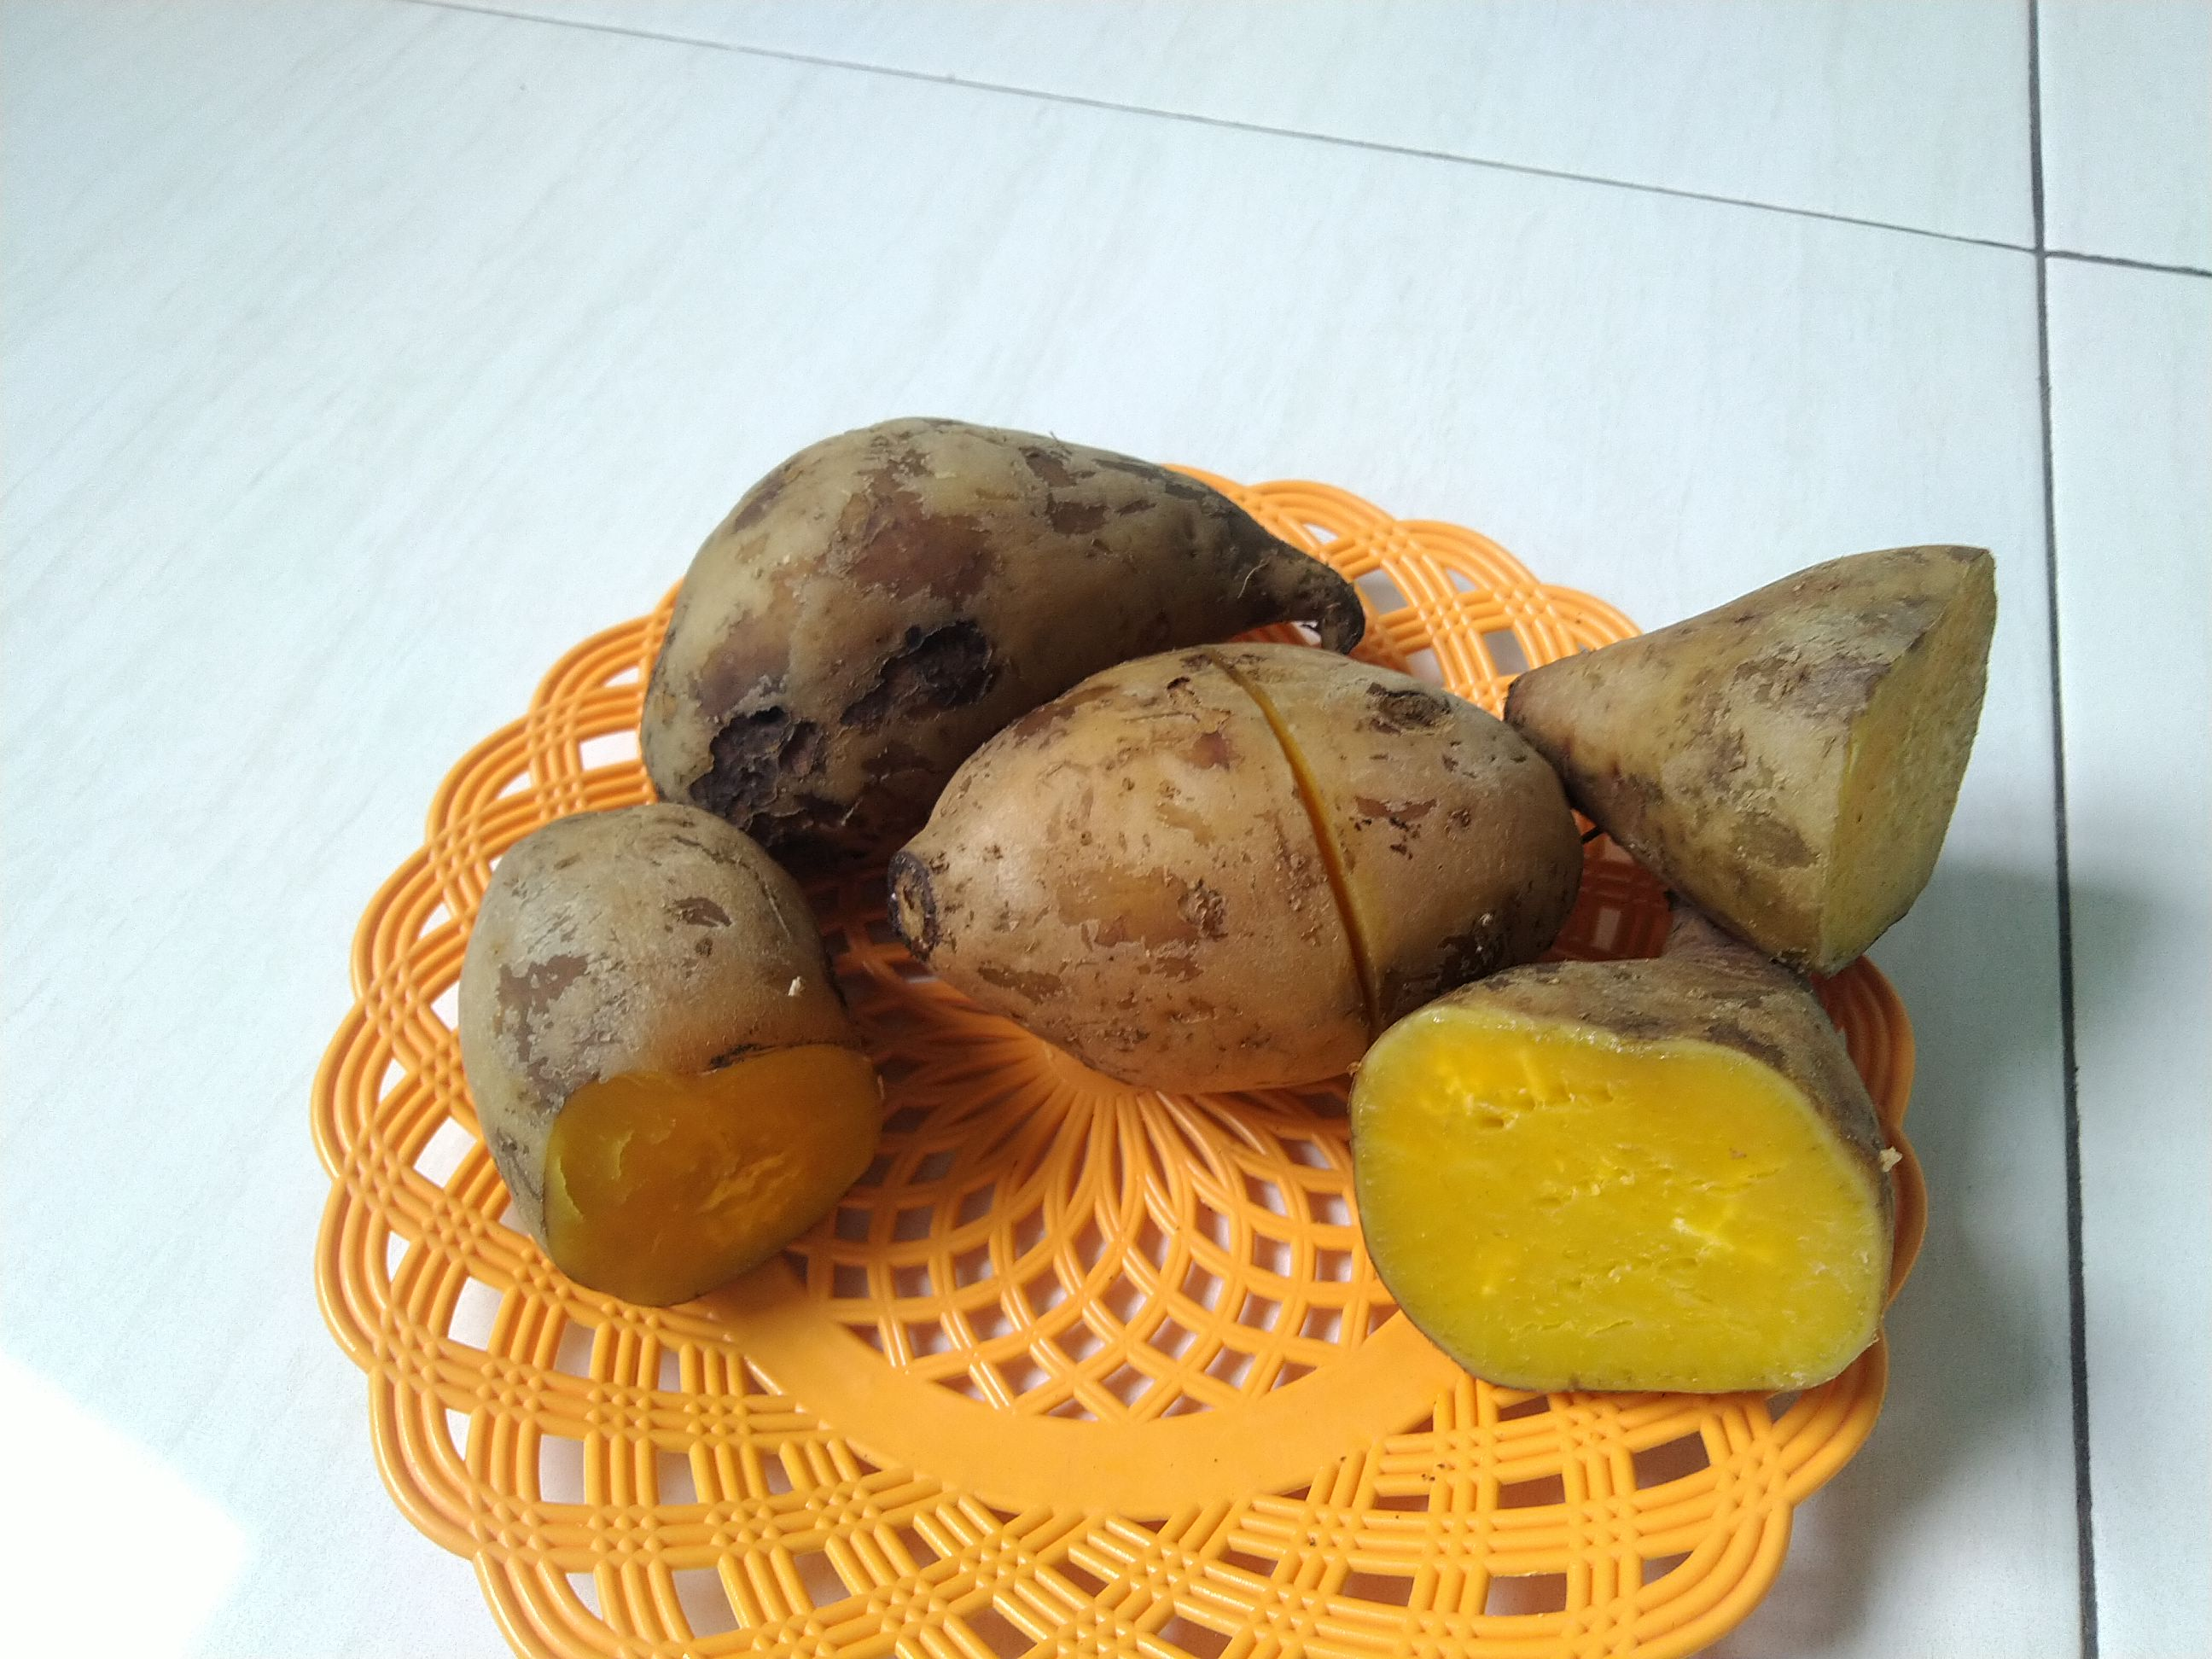ubi kuning: (885, 626, 1609, 1107), (643, 390, 1369, 852), (1353, 939, 1925, 1410), (1489, 512, 2013, 981), (437, 800, 906, 1288)
